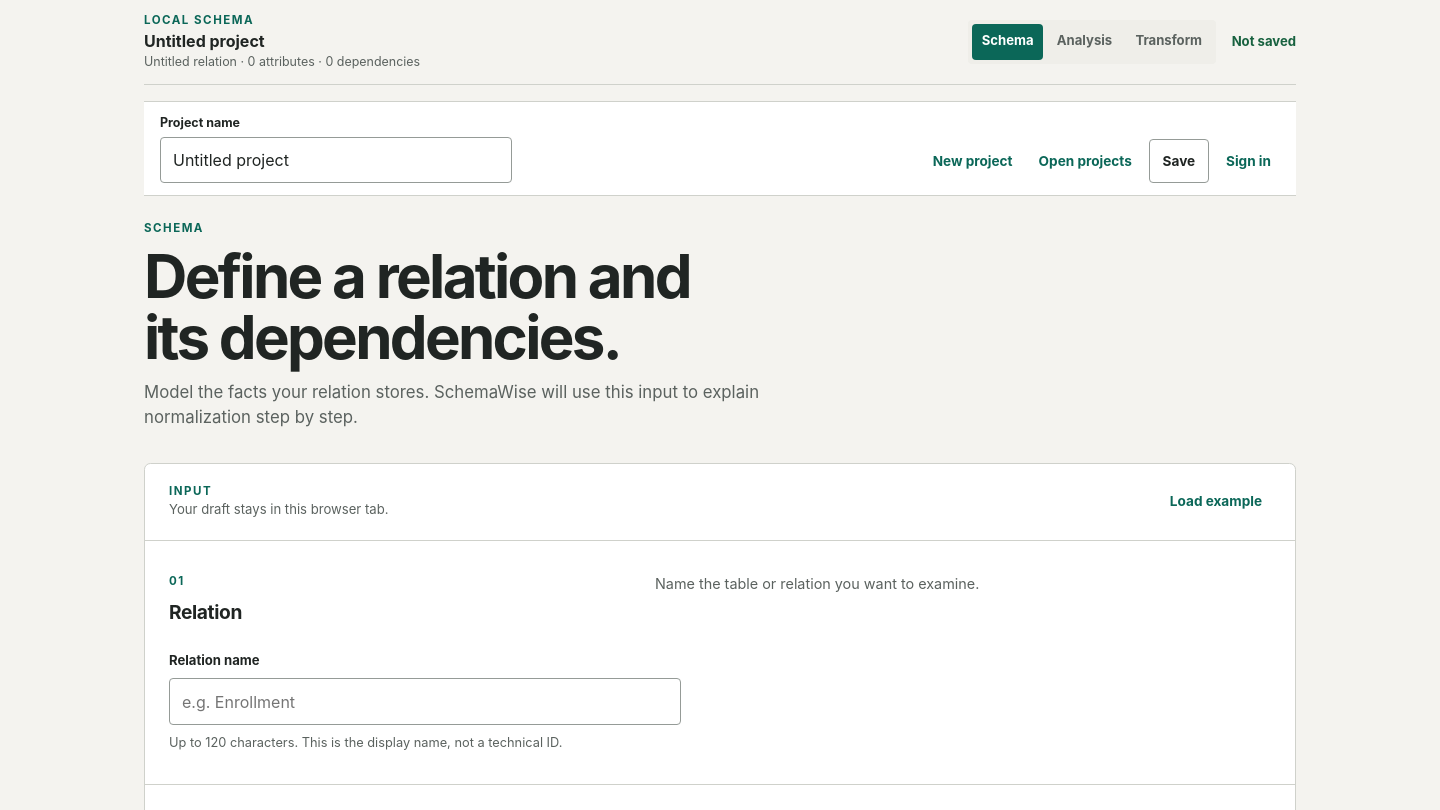
Test case: schema workspace input editor › marks visual duplicate names after trimming and ignoring case
The image size is (1440, 810).
Step 1. Click the button "Load example" → (1216, 502), box [1161,480,1271,524]
(page scrolled)
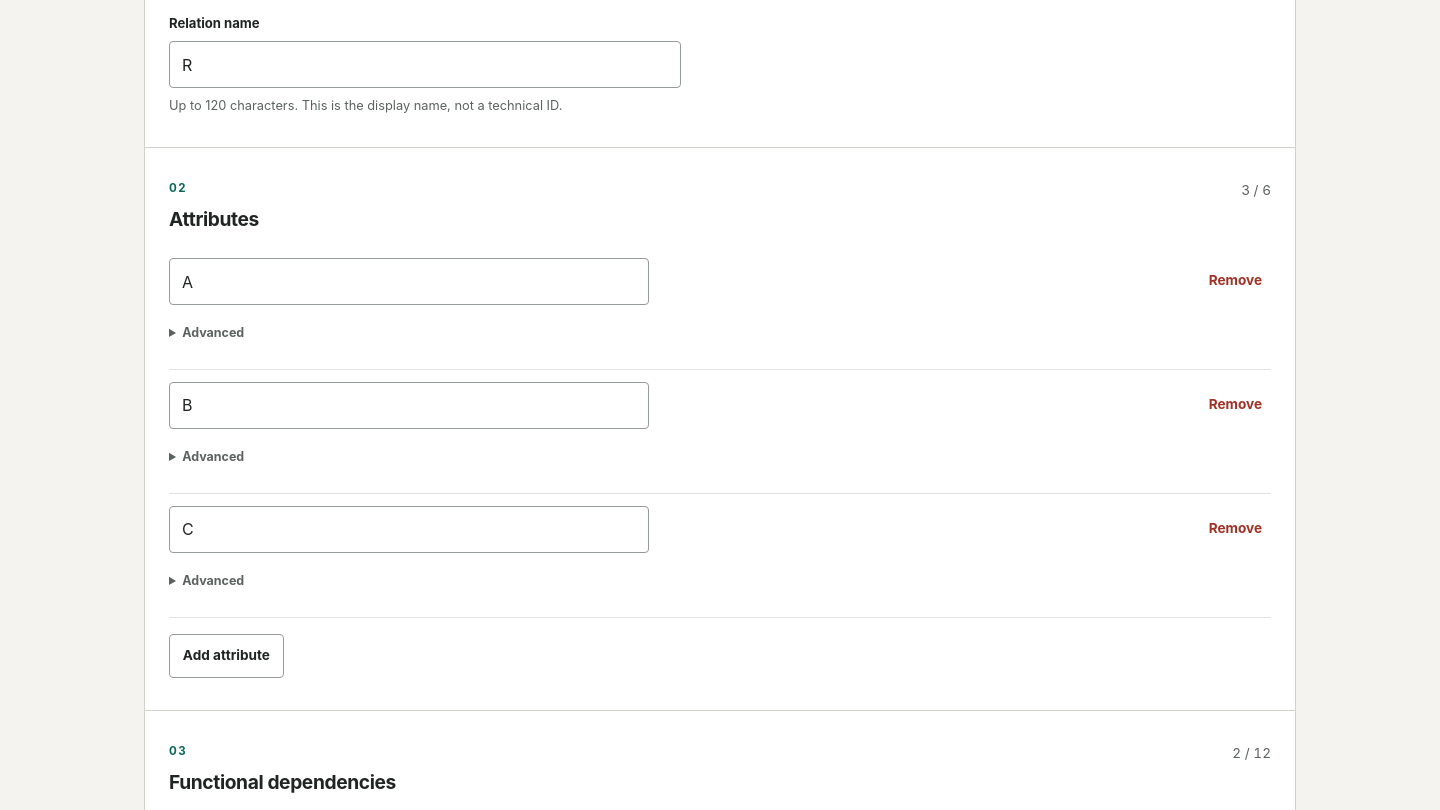
Step 2. Replace the text in the 2nd field named "Attribute 2 name" with " a " → (409, 406), box [169,382,649,429]
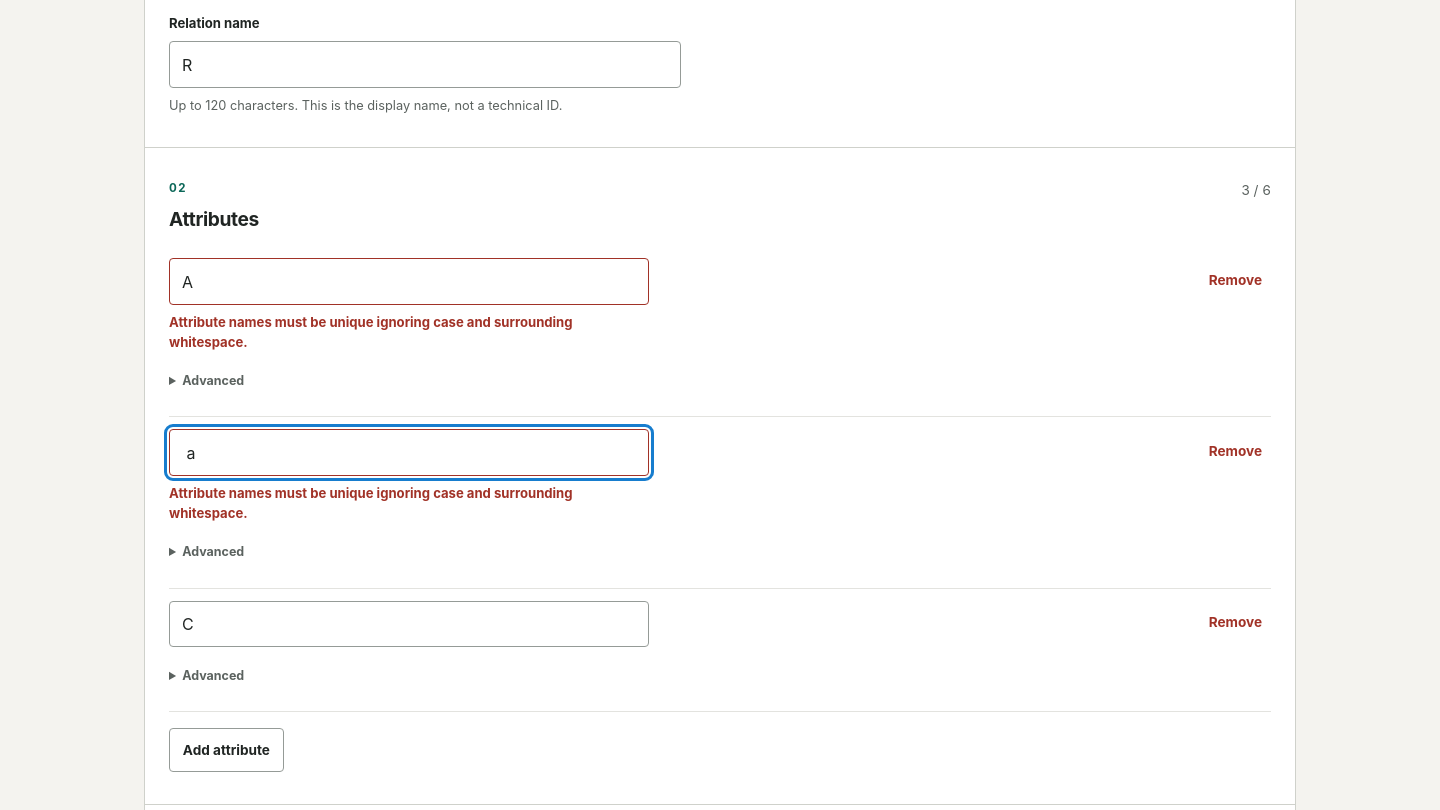
Check: the text "Attribute names must be unique ignoring case and surrounding whitespace." is shown 2 times, box [169,314,573,350]; [169,485,573,521]
